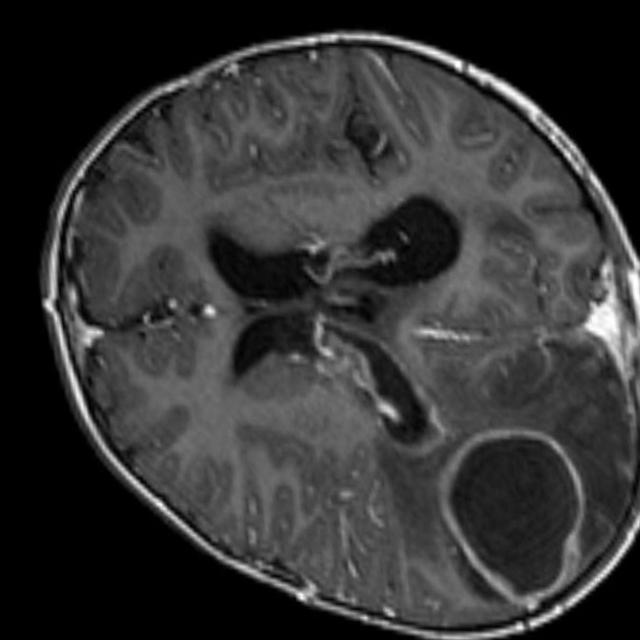Tumor: (428, 423, 569, 598)
